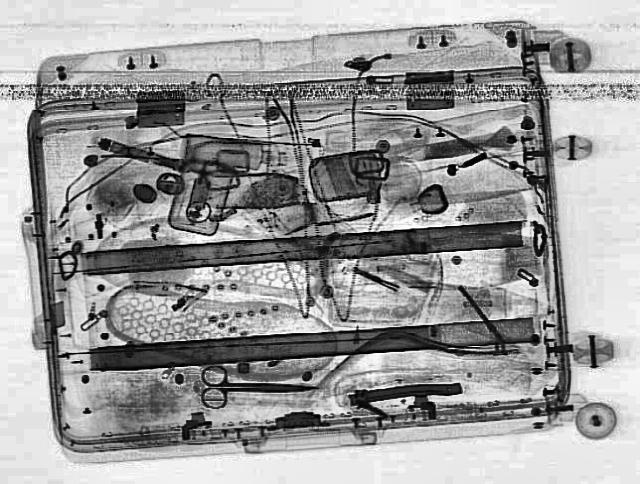Scissors: (199, 364, 319, 408)
